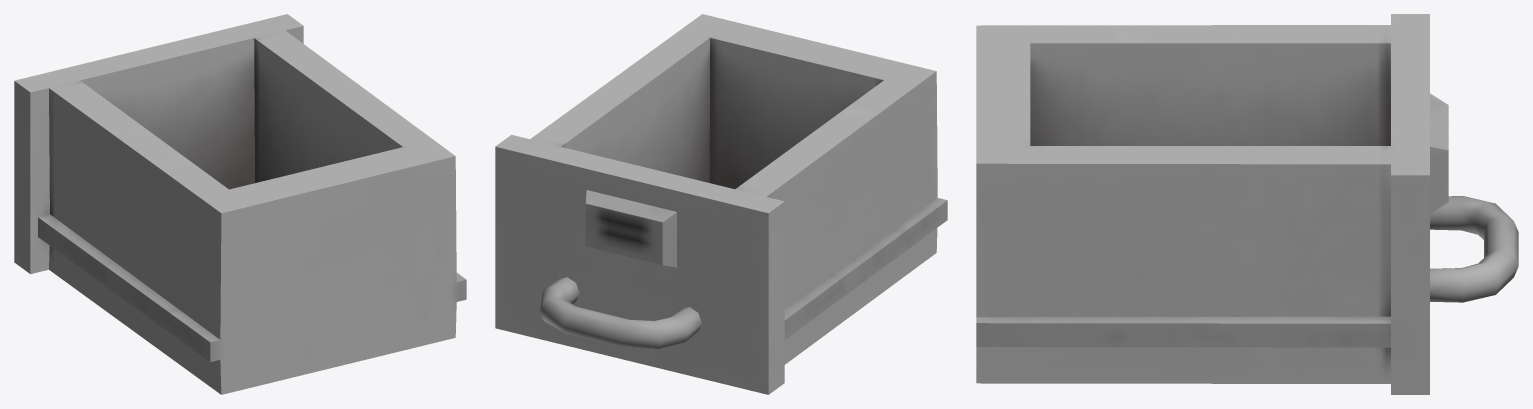
File: Pfb_FileCabient_S__2.fbx
3 renders of one model, left to right at view 1: azimuth 30°, elevation 25°; view 2: azimuth 150°, elevation 25°; view 3: azimuth 270°, elevation 25°, orthographic. The views are drawn at different scales.
Parts seen in each view (by area): view 1: Mat_FileCabient 1; view 2: Mat_FileCabient 1; view 3: Mat_FileCabient 1.
Boxes of the visible parts, left/top/right/bottom form: Mat_FileCabient 1: left=14, top=14, right=466, bottom=394; Mat_FileCabient 1: left=495, top=14, right=947, bottom=394; Mat_FileCabient 1: left=976, top=14, right=1518, bottom=394.
Bounding box in the file's own units: 0.5713 × 0.3629 × 0.8123.
Materials: 1 (1 with a texture image).
